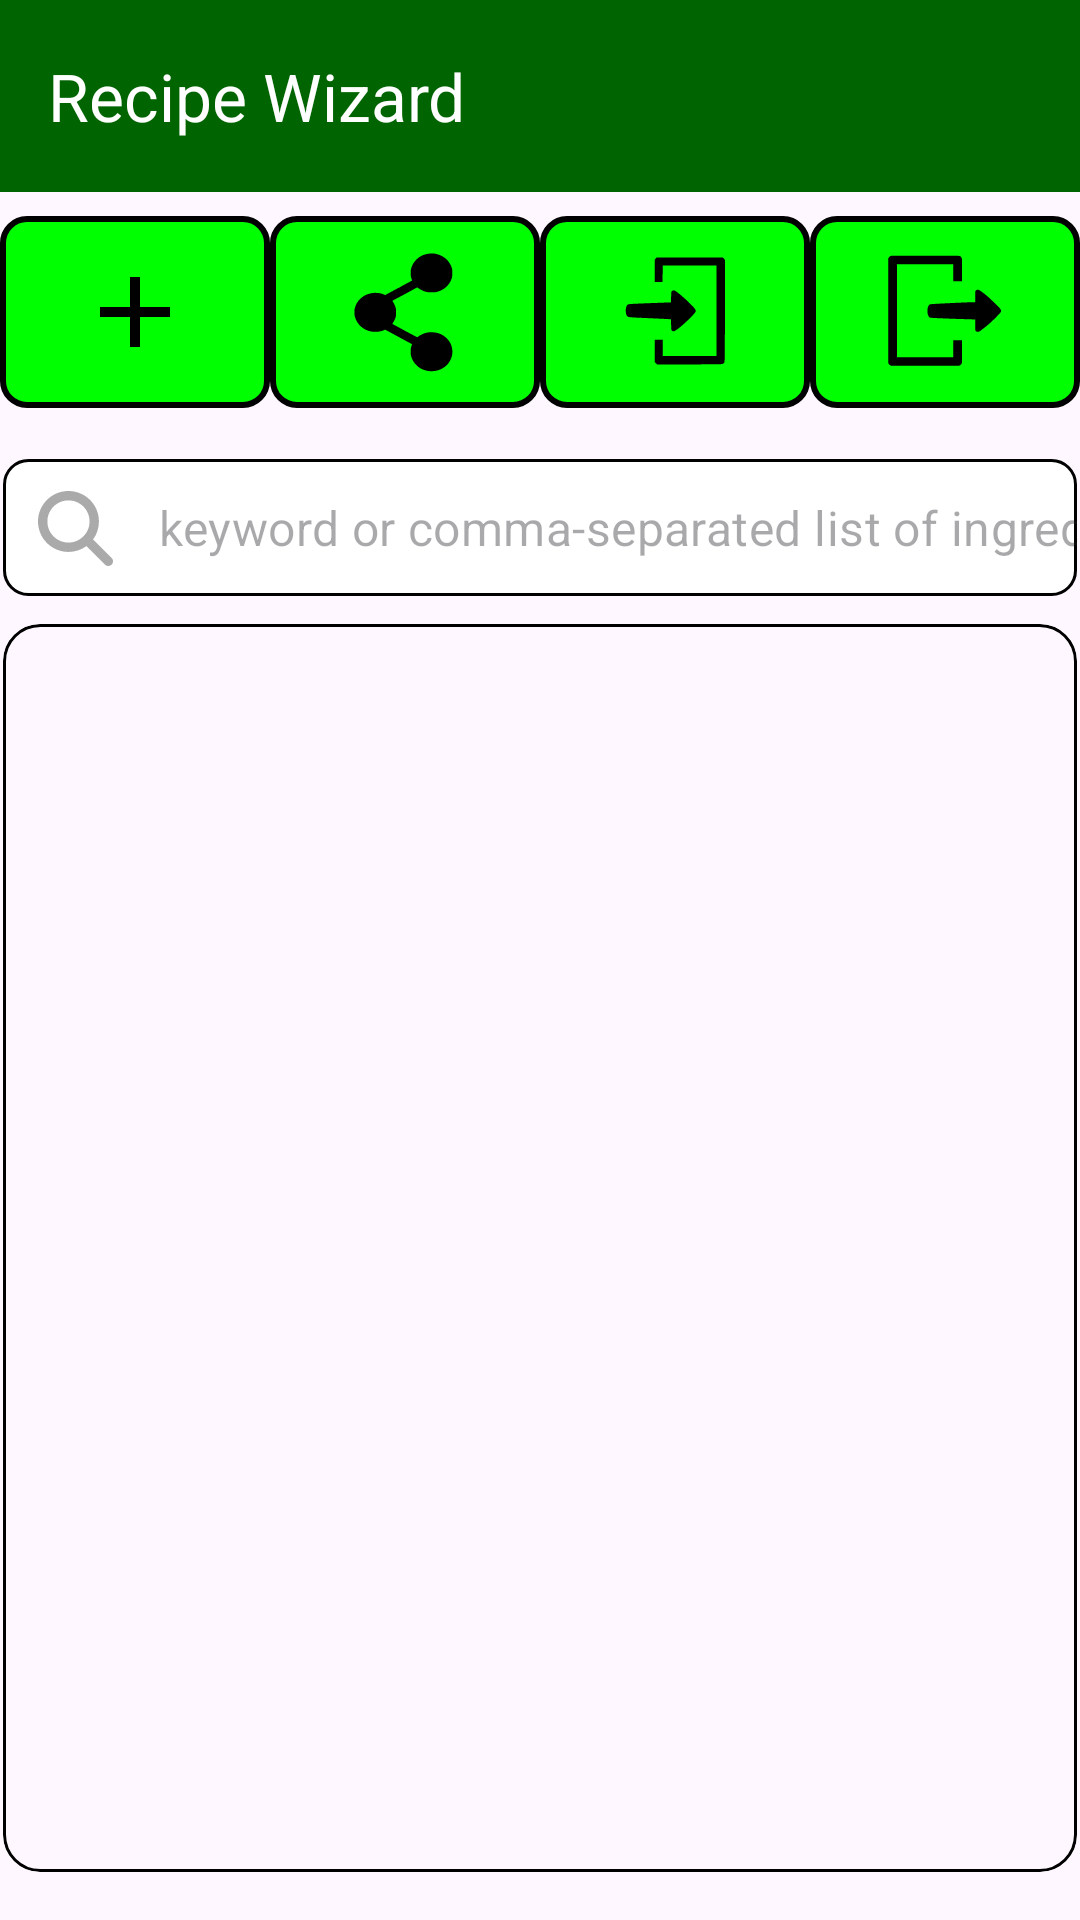

Icons on this 1080px×1920px Android screen, each with the point to tap as (x=x, y=y):
Add Recipe: (x=135, y=312)
Export Recipes: (x=945, y=312)
Import Recipes: (x=675, y=312)
Share Recipes: (x=405, y=312)
